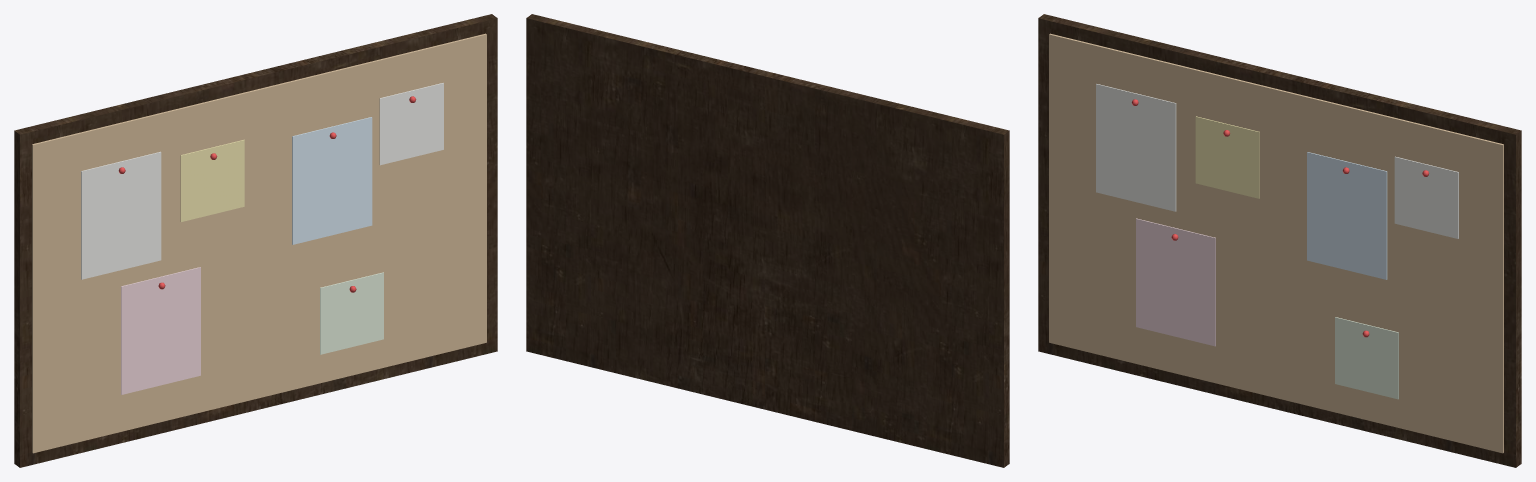
Rendered from corkboard.glb.
The picture shows the model from 3 angles, left to right: view 1: azimuth 30°, elevation 25°; view 2: azimuth 150°, elevation 25°; view 3: azimuth 330°, elevation 25°; orthographic projection.
Parts seen in each view (by area): view 1: tint_cork, wood, pp0, pp2, pp4, pp1, pp3, pp5; view 2: wood; view 3: tint_cork, wood, pp2, pp0, pp4, pp1, pp3, pp5.
Part boxes in pixels (bbox=[...]): tint_cork: bbox=[32, 33, 486, 453]; wood: bbox=[14, 14, 497, 467]; pp0: bbox=[81, 151, 161, 279]; pp2: bbox=[292, 117, 372, 244]; pp4: bbox=[121, 267, 200, 394]; pp1: bbox=[180, 139, 244, 221]; pp3: bbox=[379, 83, 443, 165]; pp5: bbox=[320, 272, 383, 354]; wood: bbox=[526, 14, 1009, 467]; tint_cork: bbox=[1049, 33, 1503, 453]; wood: bbox=[1038, 14, 1521, 467]; pp2: bbox=[1307, 152, 1387, 279]; pp0: bbox=[1096, 84, 1176, 211]; pp4: bbox=[1136, 218, 1215, 346]; pp1: bbox=[1195, 116, 1259, 198]; pp3: bbox=[1394, 156, 1458, 238]; pp5: bbox=[1335, 317, 1398, 399].
Bounding box in the file's own units: 1.2 × 0.8 × 0.044.
9 materials, 1 textured.
